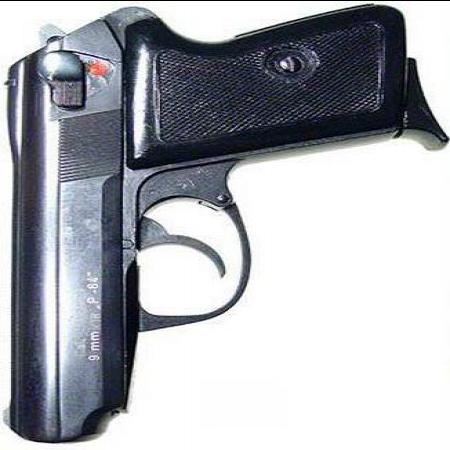Pistol: (1, 2, 448, 442)
